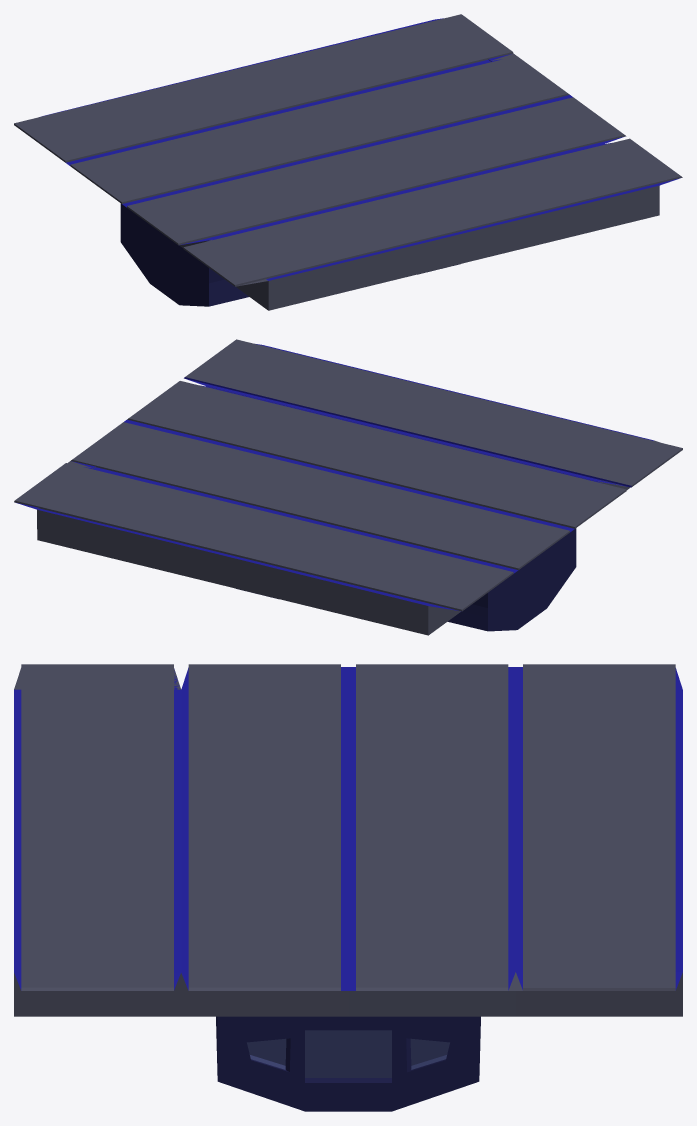
File: STAGE.fbx
The picture shows the model from 3 angles, top to bottom: view 1: azimuth 30°, elevation 25°; view 2: azimuth 150°, elevation 25°; view 3: azimuth 270°, elevation 25°; orthographic projection. The views are drawn at different scales.
Parts seen in each view (by area): view 1: Cube, 立方体; view 2: Cube, 立方体; view 3: Cube, 立方体.
Boxes of the visible parts, <box> form: Cube: <box>14,14,682,310</box>; 立方体: <box>120,203,460,306</box>; Cube: <box>14,339,682,635</box>; 立方体: <box>236,528,576,631</box>; Cube: <box>14,664,682,1016</box>; 立方体: <box>216,1016,480,1111</box>.
Size of the model in its own units: 229 by 48.96 by 200.
